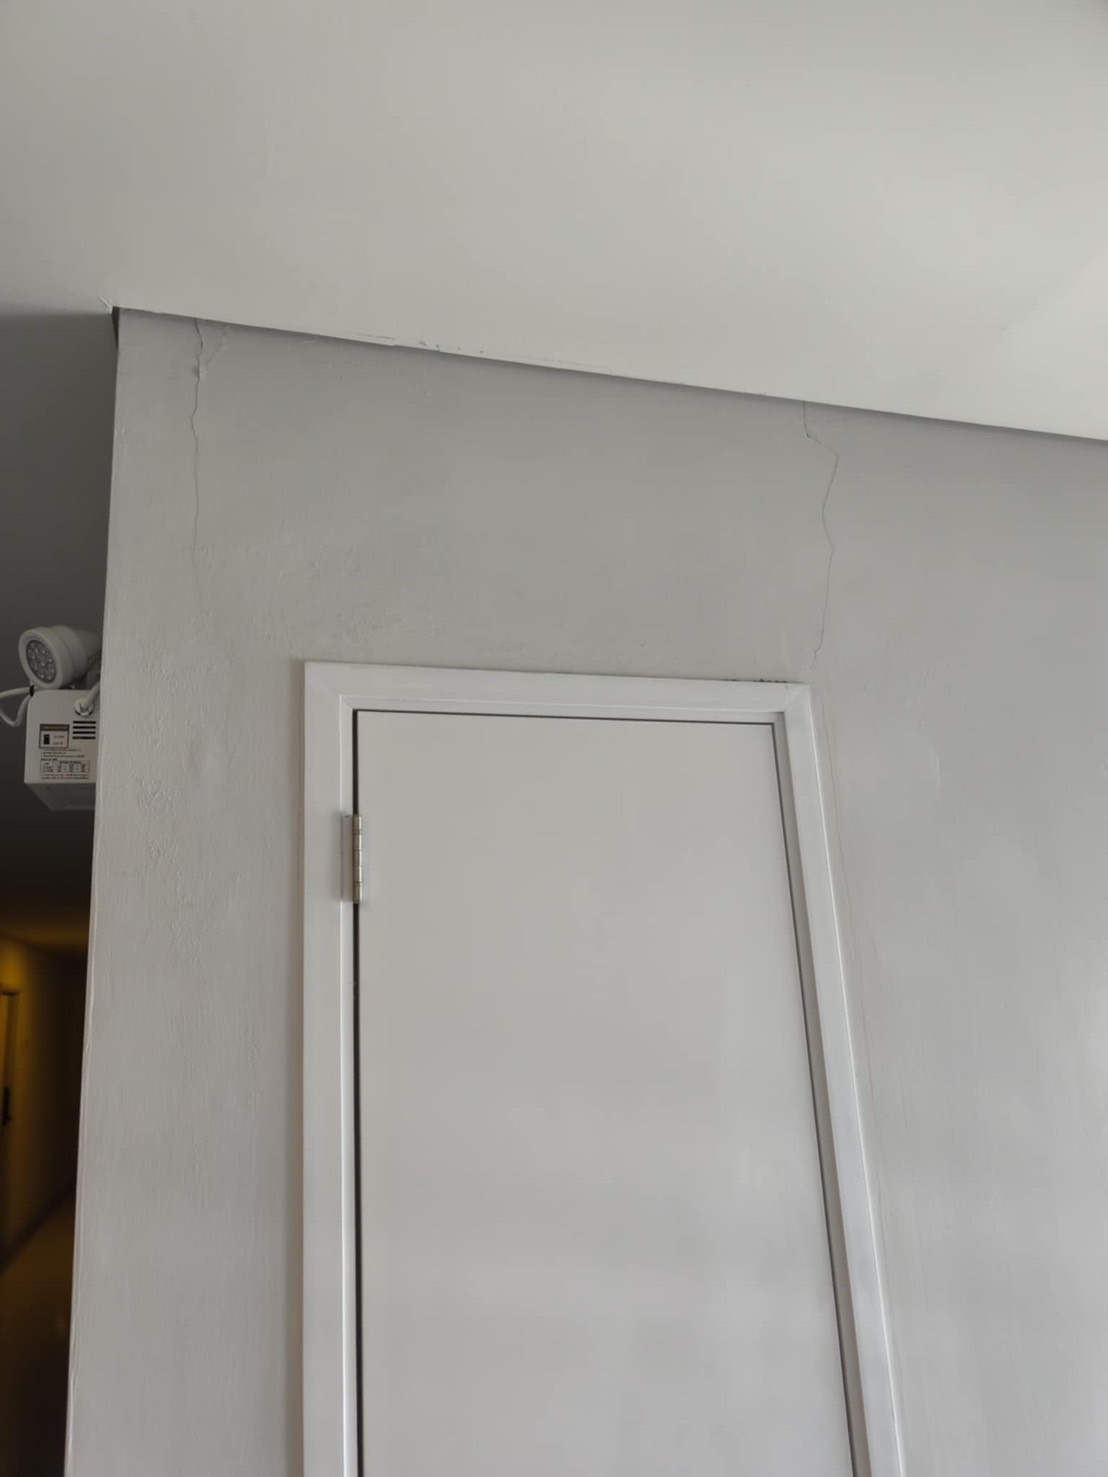Low: (796, 391, 857, 673)
